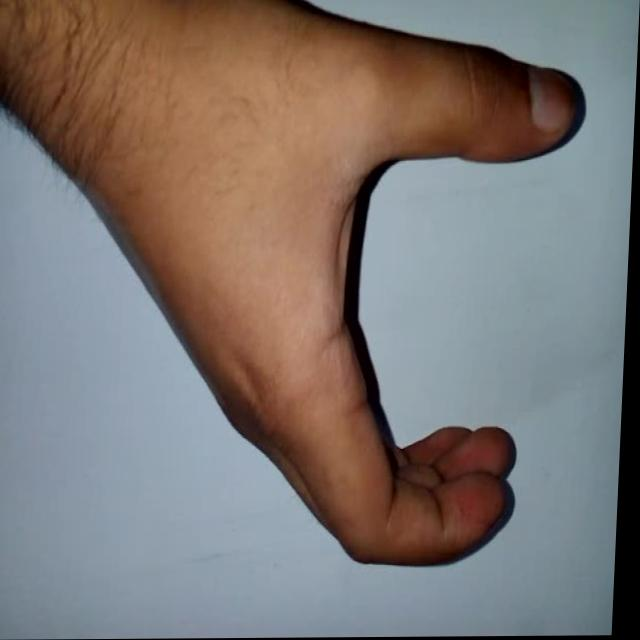C: (83, 27, 585, 587)
